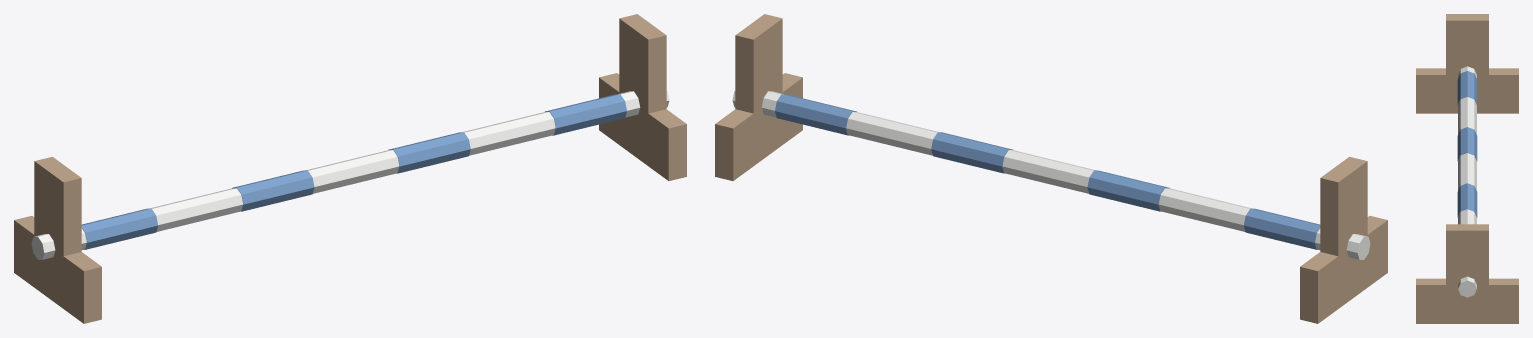
File: cavaletti-low.glb
3 renders of one model, left to right at view 1: azimuth 30°, elevation 25°; view 2: azimuth 150°, elevation 25°; view 3: azimuth 270°, elevation 25°, orthographic. The views are drawn at different scales.
Visible parts, largest first — view 1: cavaletti-low; view 2: cavaletti-low; view 3: cavaletti-low.
Boxes of the visible parts, box(x1,y1,x2,y2) form: cavaletti-low: box(14, 14, 686, 323); cavaletti-low: box(715, 14, 1387, 323); cavaletti-low: box(1416, 14, 1518, 323).
Bounding box in the file's own units: 3.1 × 0.6001 × 0.6001.
